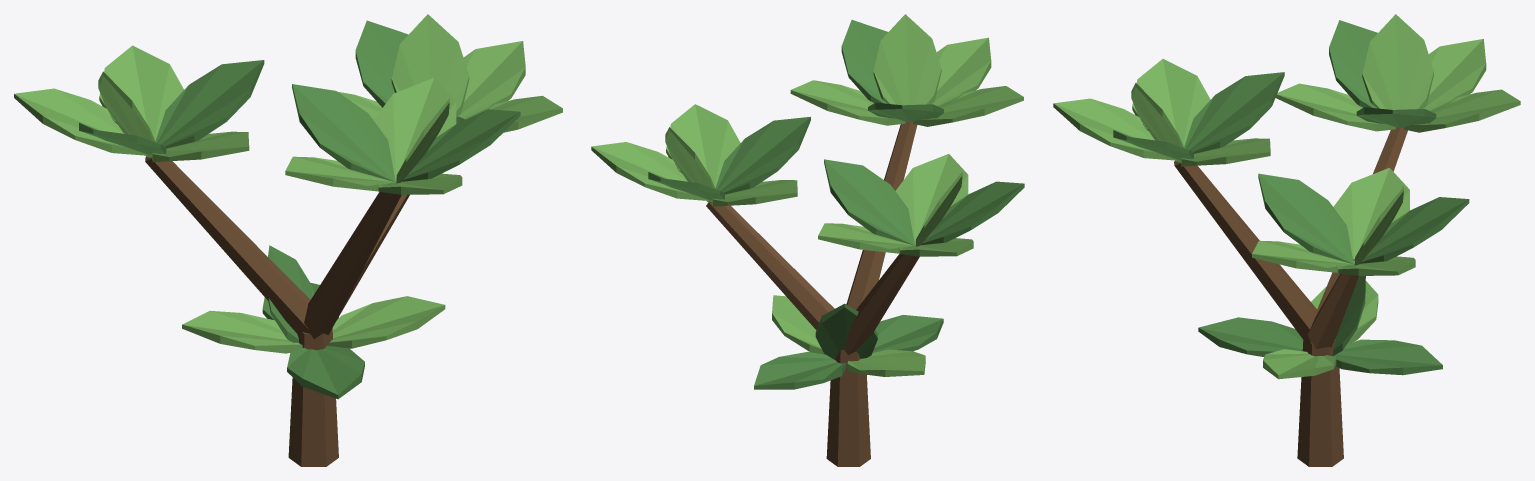
Rendered from psychoid.obj.
3 renders of one model, left to right at view 1: azimuth 30°, elevation 25°; view 2: azimuth 150°, elevation 25°; view 3: azimuth 270°, elevation 25°, orthographic. The views are drawn at different scales.
Visible parts, largest first — view 1: psychoid_8, psychoid_19, psychoid_12, psychoid_15, psychoid_7, psychoid_0, psychoid_18, psychoid_13, psychoid_25, psychoid_9, psychoid_17, psychoid_2 (+12 smaller); view 2: psychoid_21, psychoid_12, psychoid_0, psychoid_5, psychoid_1, psychoid_11, psychoid_6, psychoid_2, psychoid_10, psychoid_16, psychoid_22, psychoid_8 (+15 smaller); view 3: psychoid_14, psychoid_15, psychoid_5, psychoid_19, psychoid_0, psychoid_4, psychoid_20, psychoid_16, psychoid_3, psychoid_22, psychoid_9, psychoid_24 (+15 smaller).
Part boxes in pixels (x1=…): psychoid_8: x1=145, y1=157, x2=310, y2=335; psychoid_19: x1=292, y1=84, x2=395, y2=182; psychoid_12: x1=155, y1=60, x2=264, y2=148; psychoid_15: x1=304, y1=192, x2=401, y2=339; psychoid_7: x1=391, y1=14, x2=469, y2=116; psychoid_0: x1=288, y1=328, x2=338, y2=466; psychoid_18: x1=373, y1=77, x2=456, y2=181; psychoid_13: x1=99, y1=45, x2=183, y2=140; psychoid_25: x1=328, y1=296, x2=445, y2=348; psychoid_9: x1=14, y1=88, x2=147, y2=155; psychoid_17: x1=402, y1=109, x2=520, y2=181; psychoid_2: x1=458, y1=41, x2=525, y2=119; psychoid_21: x1=873, y1=14, x2=941, y2=105; psychoid_12: x1=824, y1=159, x2=914, y2=245; psychoid_0: x1=826, y1=350, x2=870, y2=466; psychoid_5: x1=715, y1=116, x2=810, y2=194; psychoid_1: x1=706, y1=202, x2=844, y2=349; psychoid_11: x1=895, y1=154, x2=968, y2=245; psychoid_6: x1=666, y1=104, x2=740, y2=187; psychoid_2: x1=591, y1=142, x2=708, y2=200; psychoid_10: x1=921, y1=181, x2=1024, y2=244; psychoid_16: x1=932, y1=37, x2=991, y2=107; psychoid_22: x1=754, y1=351, x2=846, y2=389; psychoid_8: x1=844, y1=254, x2=919, y2=354; psychoid_14: x1=1362, y1=14, x2=1433, y2=109; psychoid_15: x1=1174, y1=161, x2=1318, y2=345; psychoid_5: x1=1258, y1=173, x2=1353, y2=264; psychoid_19: x1=1184, y1=72, x2=1284, y2=153; psychoid_0: x1=1297, y1=339, x2=1343, y2=466; psychoid_4: x1=1333, y1=168, x2=1409, y2=263; psychoid_20: x1=1132, y1=59, x2=1210, y2=146; psychoid_16: x1=1053, y1=98, x2=1176, y2=160; psychoid_3: x1=1360, y1=197, x2=1469, y2=263; psychoid_22: x1=1333, y1=339, x2=1442, y2=375; psychoid_9: x1=1423, y1=39, x2=1486, y2=111; psychoid_24: x1=1198, y1=317, x2=1303, y2=356.
Size of the model in its own units: 0.7413 by 0.6494 by 0.7014.
